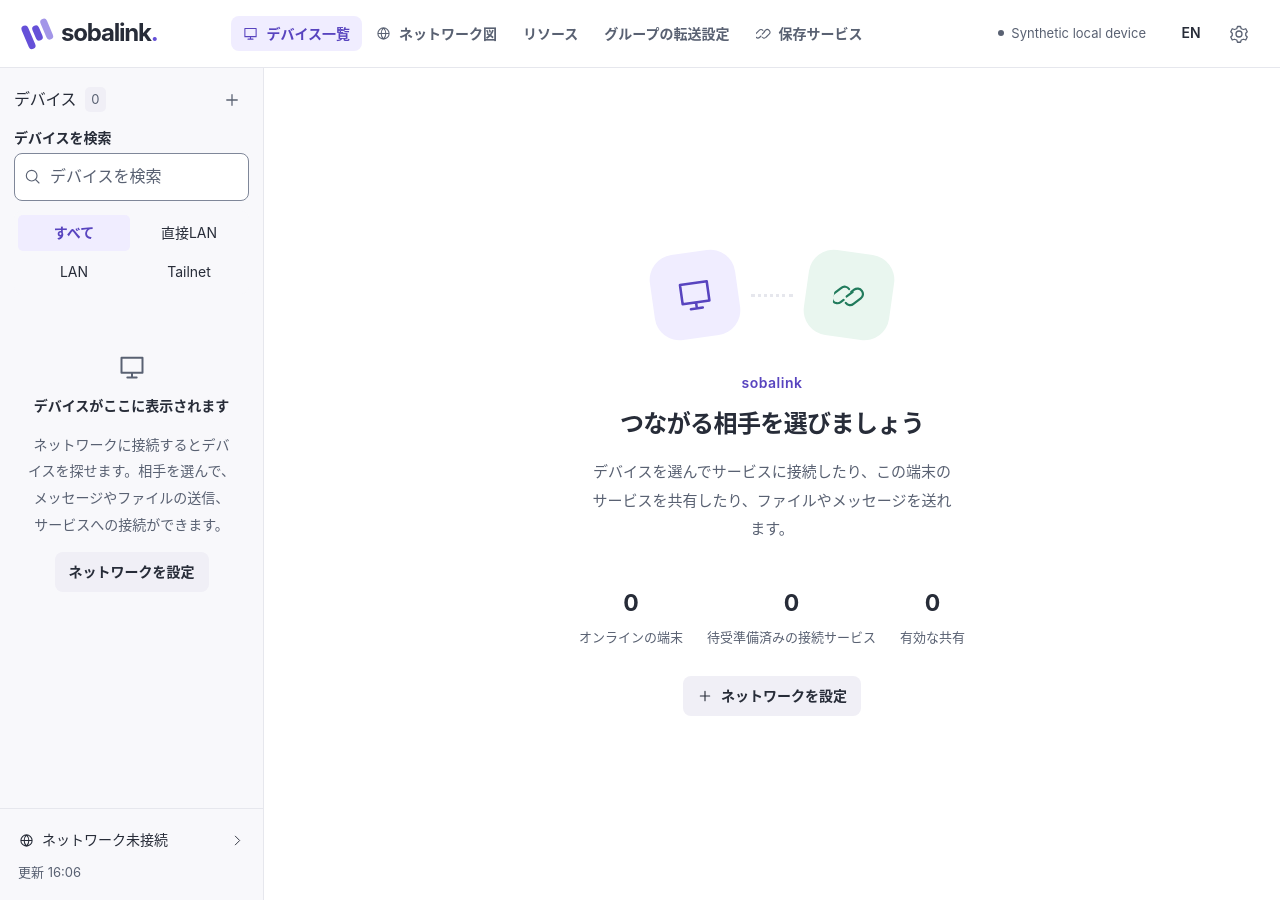
Test: nearby setup navigation ownership › ja: entry explains request approval and optional fingerprint comparison
The width and height of the screenshot is (1280, 900).
Click the button named "ネットワークを設定".
click(232, 100)  # box [214,82,249,117]
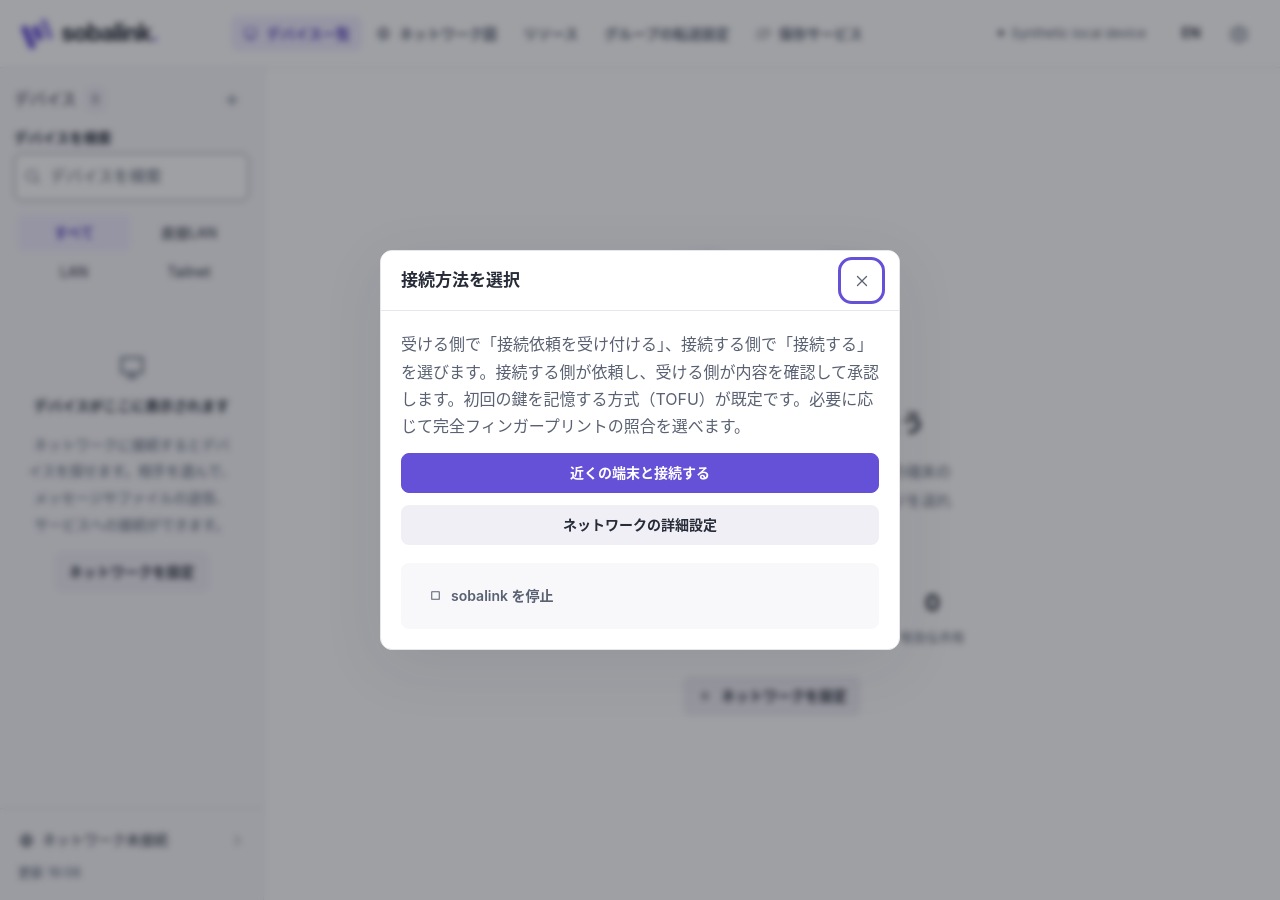
Now the text "受ける側で「接続依頼を受け付ける」、接続する側で「接続する」を選びます。接続する側が依頼し、受ける側が内容を確認して承認します。初回の鍵を記憶する方式（TOFU）が既定です。必要に応じて完全フィンガープリントの照合を選べます。" is shown, box [401,334,879,436]
